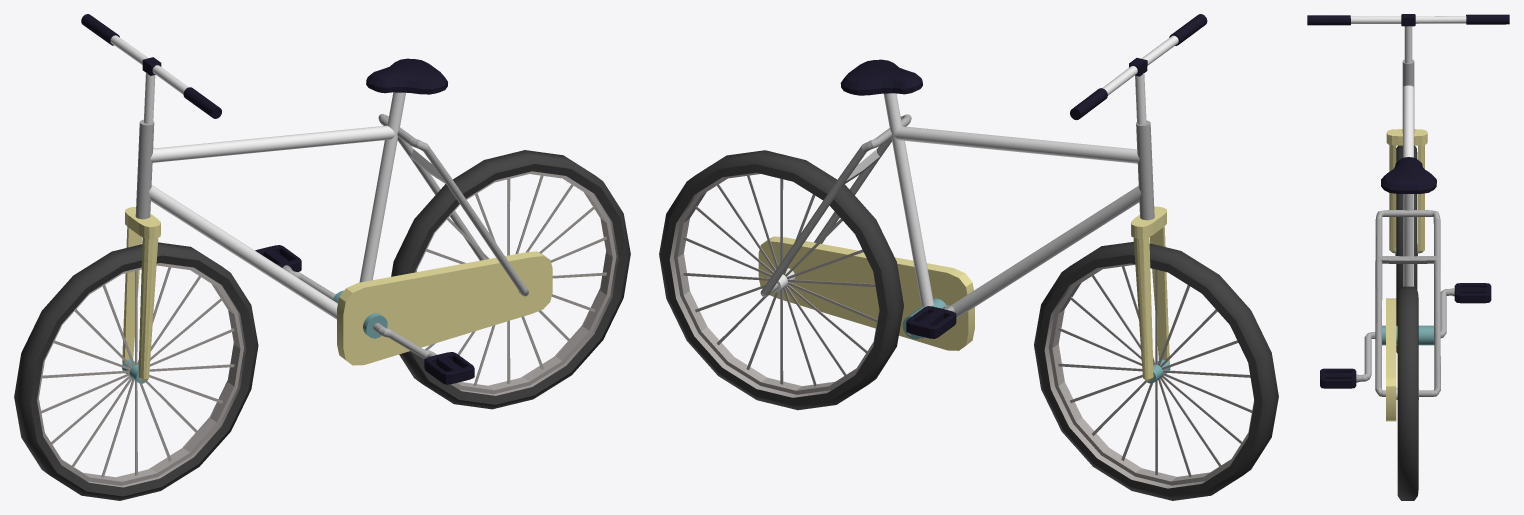
The model's file is Bike Exp.fbx.
The picture shows the model from 3 angles, left to right: view 1: azimuth 30°, elevation 25°; view 2: azimuth 150°, elevation 25°; view 3: azimuth 270°, elevation 25°; orthographic projection. The views are drawn at different scales.
Parts seen in each view (by area): view 1: Cylinder010, Cylinder001, Box001, Box002, Cylinder007, Cylinder006, Object001, Cylinder004, Plane001, Cylinder014, Cylinder008, Box003 (+1 smaller); view 2: Cylinder001, Cylinder010, Box001, Box002, Cylinder007, Cylinder006, Object001, Cylinder004, Plane001, Cylinder014, Cylinder008, Box004; view 3: Cylinder001, Object001, Cylinder014, Box002, Plane001, Box001, Cylinder010, Cylinder004, Cylinder007, Box004, Box003, Cylinder005 (+4 smaller).
Part boxes in pixels (box(x1,y1,x2,y2)): Cylinder010: box(14, 242, 258, 500); Cylinder001: box(391, 150, 630, 409); Box001: box(337, 251, 552, 365); Box002: box(122, 207, 160, 381); Cylinder007: box(150, 125, 394, 162); Cylinder006: box(149, 185, 337, 319); Object001: box(378, 114, 528, 296); Cylinder004: box(359, 92, 405, 282); Plane001: box(366, 58, 447, 94); Cylinder014: box(81, 14, 221, 118); Cylinder008: box(135, 119, 154, 219); Box003: box(424, 352, 474, 384); Cylinder001: box(659, 150, 903, 410); Cylinder010: box(1034, 241, 1278, 500); Box001: box(758, 236, 974, 350); Box002: box(1131, 206, 1169, 381); Cylinder007: box(894, 126, 1139, 163); Cylinder006: box(921, 186, 1140, 338); Object001: box(760, 114, 911, 297); Cylinder004: box(883, 93, 933, 306); Plane001: box(840, 59, 922, 95); Cylinder014: box(1070, 14, 1207, 120); Cylinder008: box(1136, 120, 1154, 220); Box004: box(906, 306, 956, 338); Cylinder001: box(1397, 286, 1418, 500); Object001: box(1375, 210, 1440, 396); Cylinder014: box(1307, 14, 1509, 26); Box002: box(1386, 129, 1427, 253); Plane001: box(1381, 157, 1436, 193); Box001: box(1386, 298, 1396, 421); Cylinder010: box(1396, 145, 1417, 353); Cylinder004: box(1403, 194, 1413, 286); Cylinder007: box(1403, 85, 1413, 209); Box004: box(1454, 283, 1491, 303); Box003: box(1320, 368, 1356, 388); Cylinder005: box(1382, 325, 1434, 345).
Bounding box in the file's own units: 3643 × 2441 × 1327.
